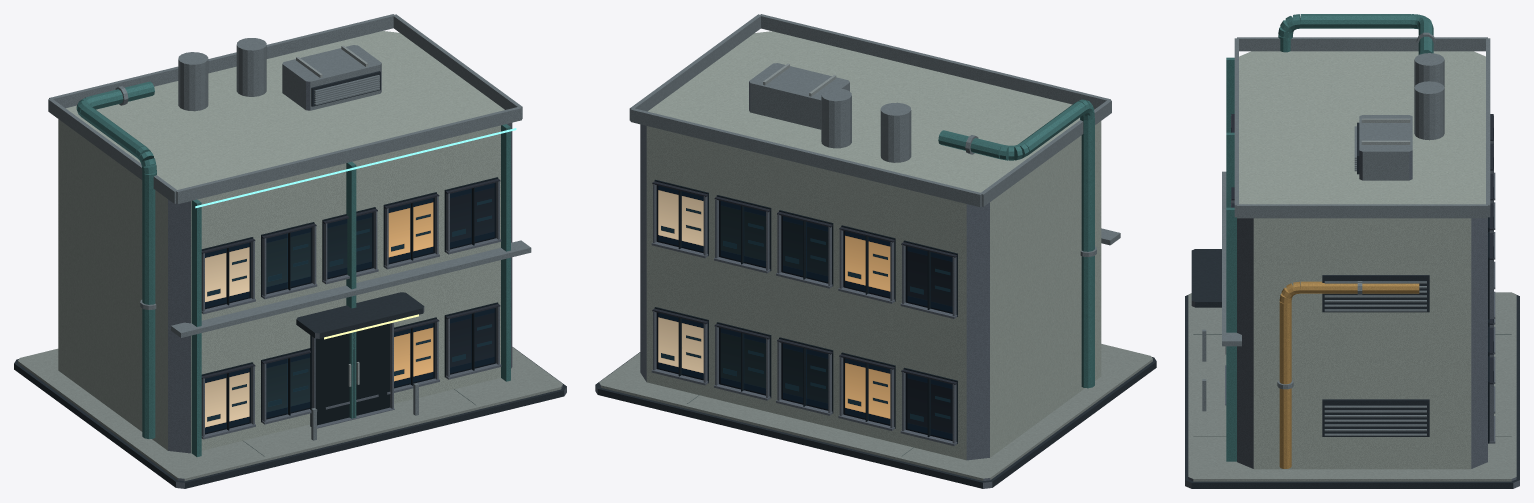
File: 04-lab-annex-02.glb
3 views of the same model, side by side, from view 1: azimuth 30°, elevation 25°; view 2: azimuth 150°, elevation 25°; view 3: azimuth 270°, elevation 25° (orthographic). The views are drawn at different scales.
Visible parts, largest first — view 1: lab_architecture; view 2: lab_architecture; view 3: lab_architecture.
Part boxes in pixels (x1,y1,x2,y2): lab_architecture: (14,14,566,488); lab_architecture: (595,14,1156,488); lab_architecture: (1185,14,1519,488).
Bounding box in the file's own units: 13.4 × 10.1 × 10.
Materials: 2 (2 with a texture image).
